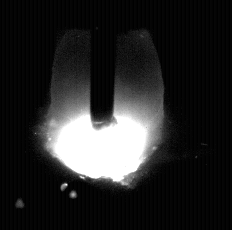arame: (91, 0, 115, 130)
poca: (41, 0, 162, 230)
